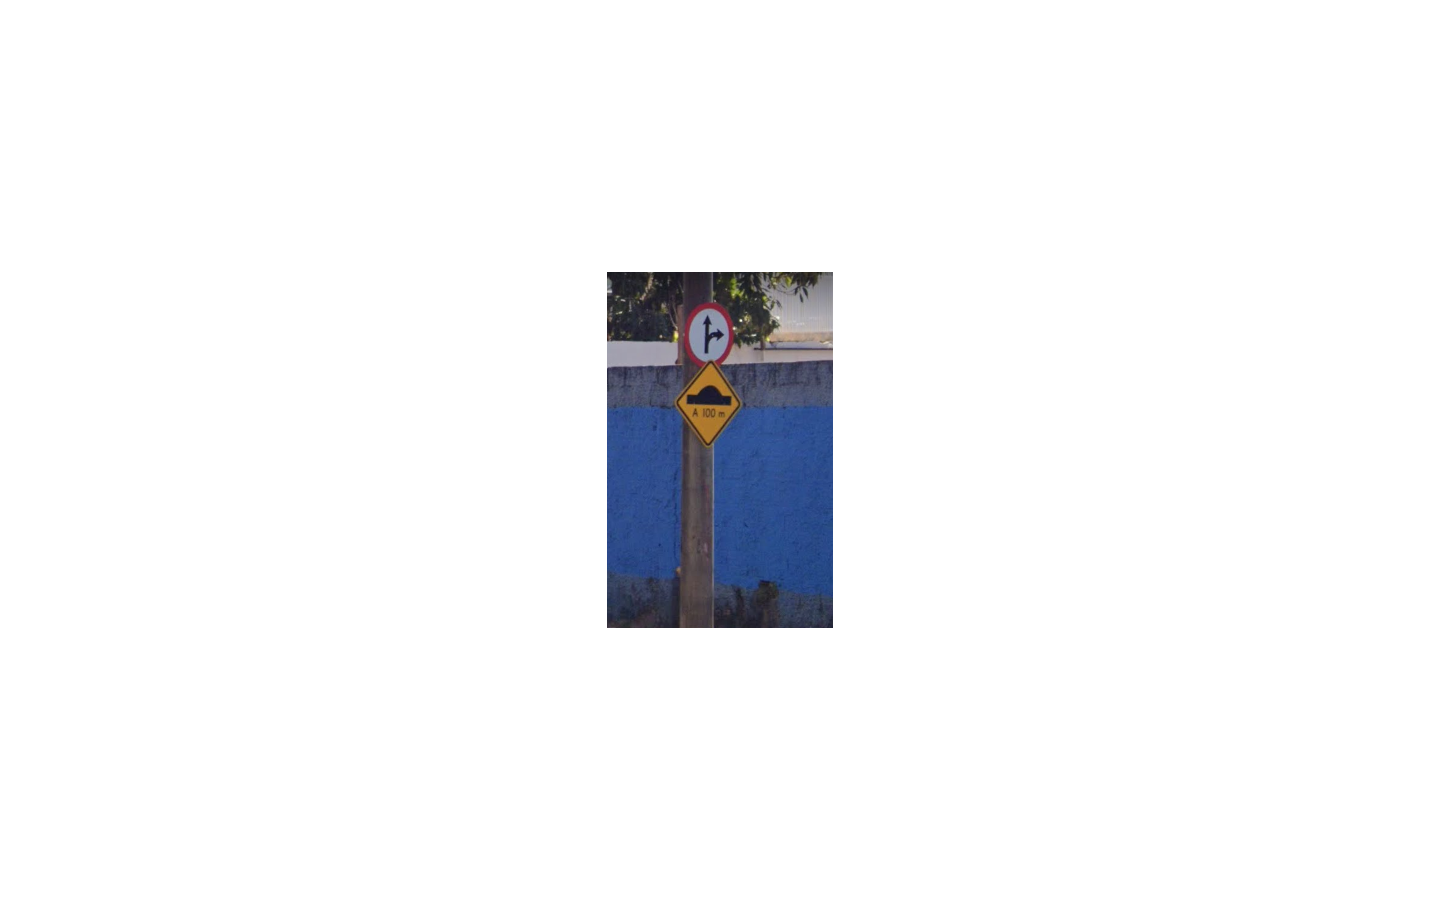t100m: (674, 359, 743, 447)
